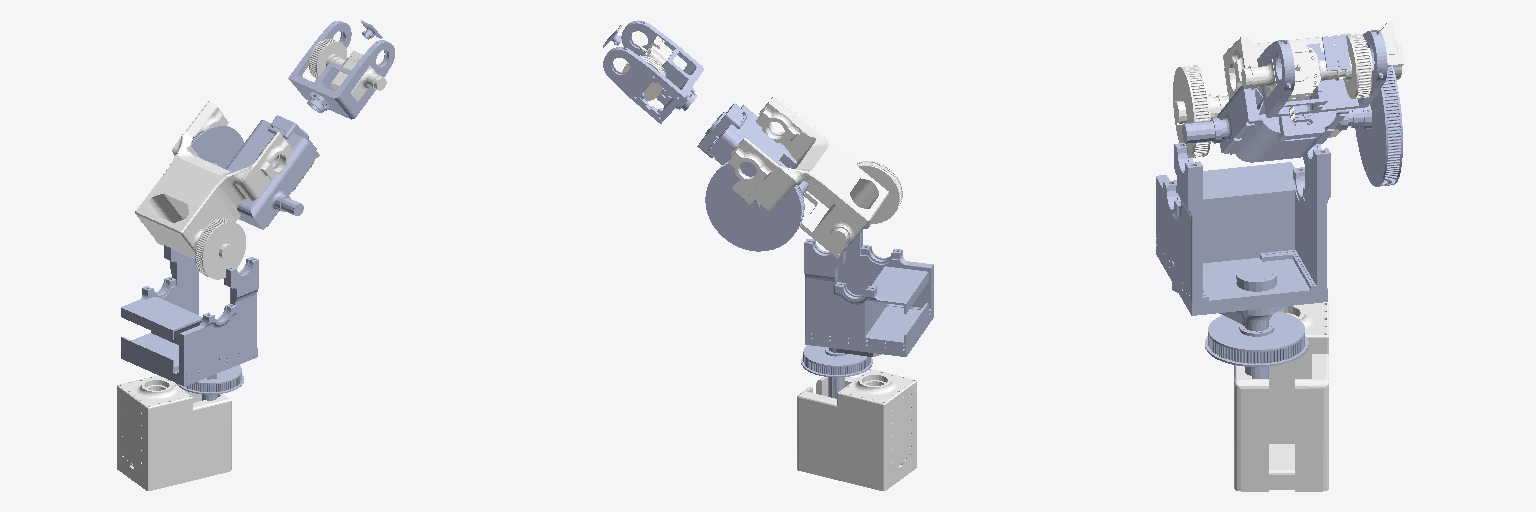
The robot description file, URDF, robot "ra6a":
<?xml version="1.0" encoding="utf-8"?>
<!-- This URDF was automatically created by SolidWorks to URDF Exporter! Originally created by Stephen Brawner (brawner@gmail.com) 
     Commit Version: 1.6.0-4-g7f85cfe  Build Version: 1.6.7995.38578
     For more information, please see http://wiki.ros.org/sw_urdf_exporter -->
<robot
  name="ra6a">
  <link
    name="base_link">
    <inertial>
      <origin
        xyz="0 0 0"
        rpy="0 0 0" />
      <mass
        value="2.915" />
      <inertia
        ixx="0.01436"
        ixy="-9.7839E-06"
        ixz="8.8797E-08"
        iyy="0.016743"
        iyz="-8.9882E-08"
        izz="0.017881" />
    </inertial>
    <visual>
      <origin
        xyz="0 0 0"
        rpy="0 0 0" />
      <geometry>
        <mesh
          filename="package://ra6a/meshes/base_link.stl" 
          scale="1.0 1.0 1.0"/>
      </geometry>
      <material
        name="">
        <color
          rgba="1 1 1 1" />
      </material>
    </visual>
    <collision>
      <origin
        xyz="0 0 0"
        rpy="0 0 0" />
      <geometry>
        <mesh
          filename="package://ra6a/meshes/base_link.stl" 
          scale="1.0 1.0 1.0"/>
      </geometry>
    </collision>
  </link>
  <link
    name="l1">
    <inertial>
      <origin
        xyz="-0.018341 -0.038699 -0.09919"
        rpy="0 0 0" />
      <mass
        value="2.4989" />
      <inertia
        ixx="0.013037"
        ixy="-0.0027249"
        ixz="0.001464"
        iyy="0.010527"
        iyz="0.0022131"
        izz="0.010986" />
    </inertial>
    <visual>
      <origin
        xyz="0 0 0"
        rpy="0 0 0" />
      <geometry>
        <mesh
          filename="package://ra6a/meshes/l1.stl" 
          scale="1.0 1.0 1.0"/>
      </geometry>
      <material
        name="">
        <color
          rgba="0.79216 0.81961 0.93333 1" />
      </material>
    </visual>
    <collision>
      <origin
        xyz="0 0 0"
        rpy="0 0 0" />
      <geometry>
        <mesh
          filename="package://ra6a/meshes/l1.stl"
          scale="1.0 1.0 1.0" />
      </geometry>
    </collision>
  </link>
  <joint
    name="j1"
    type="revolute">
    <origin
      xyz="0.11229 -0.03609 0.1369"
      rpy="3.1416 0 1.5708" />
    <parent
      link="base_link" />
    <child
      link="l1" />
    <axis
      xyz="0 0 1" />
    <limit
      lower="-3.0979"
      upper="3.0979"
      effort="55.5"
      velocity="1.05" />
  </joint>
  <link
    name="l2">
    <inertial>
      <origin
        xyz="-0.074795 0.06129 -0.10126"
        rpy="0 0 0" />
      <mass
        value="3.5609" />
      <inertia
        ixx="0.021496"
        ixy="0.00028586"
        ixz="0.00088645"
        iyy="0.031862"
        iyz="0.0004388"
        izz="0.017196" />
    </inertial>
    <visual>
      <origin
        xyz="0 0 0"
        rpy="0 0 0" />
      <geometry>
        <mesh
          filename="package://ra6a/meshes/l2.stl" 
          scale="1.0 1.0 1.0"/>
      </geometry>
      <material
        name="">
        <color
          rgba="1 1 1 1" />
      </material>
    </visual>
    <collision>
      <origin
        xyz="0 0 0"
        rpy="0 0 0" />
      <geometry>
        <mesh
          filename="package://ra6a/meshes/l2.stl" 
          scale="1.0 1.0 1.0"/>
      </geometry>
    </collision>
  </link>
  <joint
    name="j2"
    type="revolute">
    <origin
      xyz="0.038867 -0.059201 -0.33764"
      rpy="0.93632 0 -0.23845" />
    <parent
      link="l1" />
    <child
      link="l2" />
    <axis
      xyz="1 0 0" />
    <limit
      lower="-1.5708"
      upper="1.8326"
      effort="110"
      velocity="1.05" />
  </joint>
  <link
    name="l3">
    <inertial>
      <origin
        xyz="-0.049486 0.00072803 0.094"
        rpy="0 0 0" />
      <mass
        value="3.1038" />
      <inertia
        ixx="0.013328"
        ixy="4.3048E-05"
        ixz="-8.438E-05"
        iyy="0.016047"
        iyz="0.00018895"
        izz="0.0094678" />
    </inertial>
    <visual>
      <origin
        xyz="0 0 0"
        rpy="0 0 0" />
      <geometry>
        <mesh
          filename="package://ra6a/meshes/l3.stl" 
          scale="1.0 1.0 1.0"/>
      </geometry>
      <material
        name="">
        <color
          rgba="0.79608 0.82353 0.93725 1" />
      </material>
    </visual>
    <collision>
      <origin
        xyz="0 0 0"
        rpy="0 0 0" />
      <geometry>
        <mesh
          filename="package://ra6a/meshes/l3.stl" 
          scale="1.0 1.0 1.0"/>
      </geometry>
    </collision>
  </link>
  <joint
    name="j3"
    type="revolute">
    <origin
      xyz="-0.051751 0.065262 -0.17987"
      rpy="-3.1182 0 -3.1416" />
    <parent
      link="l2" />
    <child
      link="l3" />
    <axis
      xyz="1 0 0" />
    <limit
      lower="-1.9634954"
      upper="1.9634954"
      effort="65"
      velocity="1.05" />
  </joint>
  <link
    name="l4">
    <inertial>
      <origin
        xyz="-0.0064465 0.00019408 0.054263"
        rpy="0 0 0" />
      <mass
        value="0.72283" />
      <inertia
        ixx="0.0016231"
        ixy="-3.7592E-06"
        ixz="-1.0915E-05"
        iyy="0.0031796"
        iyz="-1.091E-06"
        izz="0.0024777" />
    </inertial>
    <visual>
      <origin
        xyz="0 0 0"
        rpy="0 0 0" />
      <geometry>
        <mesh
          filename="package://ra6a/meshes/l4.stl" 
          scale="1.0 1.0 1.0"/>
      </geometry>
      <material
        name="">
        <color
          rgba="0.79608 0.82353 0.93725 1" />
      </material>
    </visual>
    <collision>
      <origin
        xyz="0 0 0"
        rpy="0 0 0" />
      <geometry>
        <mesh
          filename="package://ra6a/meshes/l4.stl" 
          scale="1.0 1.0 1.0"/>
      </geometry>
    </collision>
  </link>
  <joint
    name="j4"
    type="revolute">
    <origin
      xyz="5.5E-05 1.9679E-05 0.2525"
      rpy="0 0 -3.1366" />
    <parent
      link="l3" />
    <child
      link="l4" />
    <axis
      xyz="0 0 1" />
    <limit
      lower="-3.0979"
      upper="3.0979"
      effort="20"
      velocity="1.05" />
  </joint>
  <link
    name="l5">
    <inertial>
      <origin
        xyz="0.077494 0.00023934 0.047525"
        rpy="0 0 0" />
      <mass
        value="0.59888" />
      <inertia
        ixx="0.00051226"
        ixy="5.4361E-07"
        ixz="-2.0014E-05"
        iyy="0.00074482"
        iyz="-1.971E-07"
        izz="0.00065835" />
    </inertial>
    <visual>
      <origin
        xyz="0 0 0"
        rpy="0 0 0" />
      <geometry>
        <mesh
          filename="package://ra6a/meshes/l5.stl" 
          scale="1.0 1.0 1.0"/>
      </geometry>
      <material
        name="">
        <color
          rgba="1 1 1 1" />
      </material>
    </visual>
    <collision>
      <origin
        xyz="0 0 0"
        rpy="0 0 0" />
      <geometry>
        <mesh
          filename="package://ra6a/meshes/l5.stl" 
          scale="1.0 1.0 1.0"/>
      </geometry>
    </collision>
  </link>
  <joint
    name="j5"
    type="revolute">
    <origin
      xyz="-0.0435 -0.00031432 0.089001"
      rpy="-0.0057674 0 0" />
    <parent
      link="l4" />
    <child
      link="l5" />
    <axis
      xyz="1 0 0" />
    <limit
      lower="-2.26893"
      upper="2.26893"
      effort="7"
      velocity="1.05" />
  </joint>
  <link
    name="end_effector">
    <inertial>
      <origin
        xyz="1.0858E-08 3.2998E-06 -0.0020815"
        rpy="0 0 0" />
      <mass
        value="0.010728" />
      <inertia
        ixx="1.2754E-06"
        ixy="-6.705E-13"
        ixz="-1.0633E-12"
        iyy="1.9358E-06"
        iyz="-1.5271E-10"
        izz="2.32E-06" />
    </inertial>
    <visual>
      <origin
        xyz="0 0 0"
        rpy="0 0 0" />
      <geometry>
        <mesh
          filename="package://ra6a/meshes/end_effector.stl" 
          scale="1.0 1.0 1.0"/>
      </geometry>
      <material
        name="">
        <color
          rgba="0.79216 0.81961 0.93333 1" />
      </material>
    </visual>
    <collision>
      <origin
        xyz="0 0 0"
        rpy="0 0 0" />
      <geometry>
        <mesh
          filename="package://ra6a/meshes/end_effector.stl" 
          scale="1.0 1.0 1.0"/>
      </geometry>
    </collision>
  </link>
  <joint
    name="j6"
    type="revolute">
    <origin
      xyz="0.0435 0 0.1025"
      rpy="0 0 -1.5764" />
    <parent
      link="l5" />
    <child
      link="end_effector" />
    <axis
      xyz="0 0 1" />
    <limit
      lower="-3.0979"
      upper="3.0979"
      effort="1.8"
      velocity="1.05" />
  </joint>
</robot>

--- Render facts (derived) ---
The picture shows the robot from 3 angles, left to right: view 1: azimuth 30°, elevation 25°; view 2: azimuth 150°, elevation 25°; view 3: azimuth 270°, elevation 25°; orthographic projection.
Robot: ra6a — 7 links, 6 joints (6 revolute); root link base_link; default pose: all joints at 0.
Links seen in each view (by area): view 1: l1, l2, base_link, l3, l4, l5; view 2: l1, l2, base_link, l3, l4, l5; view 3: l1, base_link, l3, l2, l4, l5, end_effector.
Boxes of the visible links, box(x1,y1,x2,y2) form: l1: box(121, 245, 258, 400); l2: box(135, 101, 293, 279); base_link: box(117, 375, 231, 490); l3: box(191, 115, 319, 229); l4: box(288, 21, 394, 119); l5: box(309, 39, 386, 102); l1: box(801, 224, 933, 398); l2: box(728, 95, 902, 258); base_link: box(797, 369, 916, 490); l3: box(697, 103, 808, 251); l4: box(603, 20, 703, 123); l5: box(622, 36, 686, 100); l1: box(1156, 143, 1330, 378); base_link: box(1234, 303, 1328, 491); l3: box(1182, 65, 1402, 186); l2: box(1173, 20, 1403, 157); l4: box(1257, 30, 1387, 117); l5: box(1241, 34, 1372, 121); end_effector: box(1322, 35, 1350, 70).
Bounding box of the posed robot: 0.6908 × 0.3596 × 0.922 m (x, y, z).
7 mesh visuals loaded from 7 distinct referenced files (7 binary STL).
